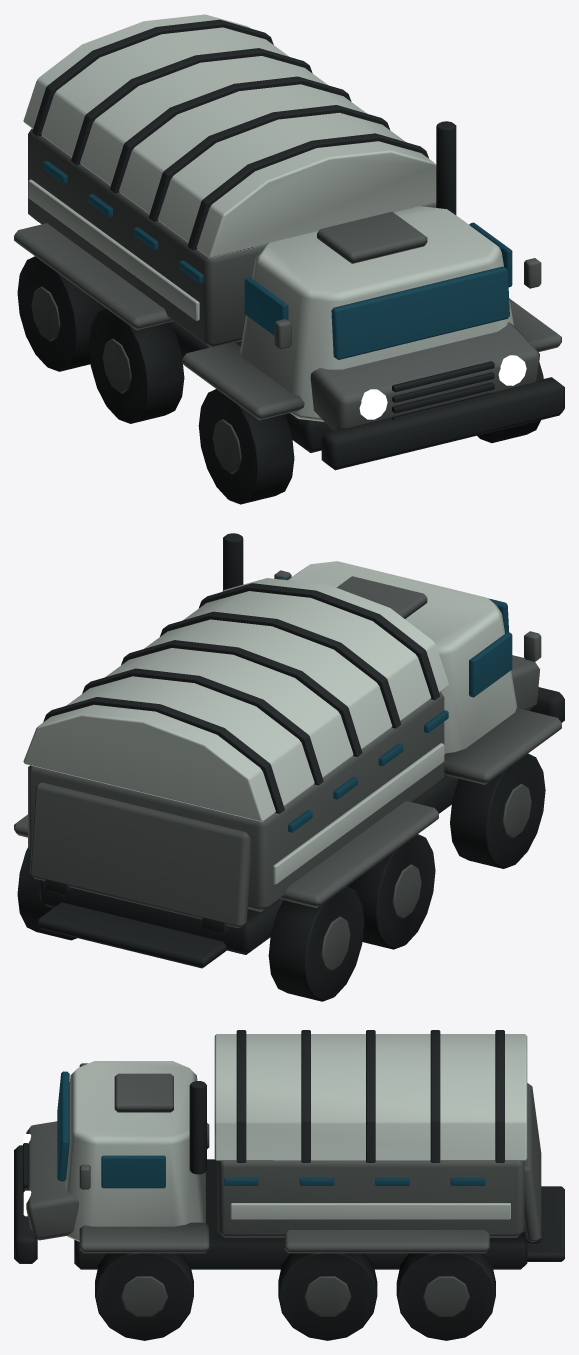
File: carrier.glb
3 renders of one model, top to bottom at view 1: azimuth 30°, elevation 25°; view 2: azimuth 150°, elevation 25°; view 3: azimuth 270°, elevation 25°, orthographic. The views are drawn at different scales.
Visible parts, largest first — view 1: Canvas_roof, Cab, Wheels, Cargo_walls, Cargo_ribs, Hood, Windshield, Bumper, Fenders, Rear_fenders, Rescue_stripe, Roof_hatch (+8 smaller); view 2: Canvas_roof, Rear_ramp, Wheels, Cargo_walls, Cargo_ribs, Cab, Rear_fenders, Rear_step, Chassis, Fenders, Rescue_stripe, Wheel_hubs (+8 smaller); view 3: Canvas_roof, Wheels, Cargo_walls, Cab, Cargo_ribs, Chassis, Rear_fenders, Rescue_stripe, Wheel_hubs, Hood, Fenders, Roof_hatch (+7 smaller).
Part boxes in pixels (x1=…): Canvas_roof: x1=23, y1=14, x2=436, y2=258; Cab: x1=240, y1=206, x2=513, y2=421; Wheels: x1=17, y1=256, x2=543, y2=504; Cargo_walls: x1=28, y1=128, x2=436, y2=347; Cargo_ribs: x1=32, y1=19, x2=428, y2=250; Hood: x1=310, y1=322, x2=539, y2=430; Windshield: x1=331, y1=266, x2=509, y2=359; Bumper: x1=321, y1=377, x2=564, y2=470; Fenders: x1=182, y1=298, x2=561, y2=420; Rear_fenders: x1=14, y1=223, x2=173, y2=330; Rescue_stripe: x1=28, y1=179, x2=199, y2=320; Roof_hatch: x1=317, y1=211, x2=427, y2=263; Canvas_roof: x1=23, y1=578, x2=448, y2=821; Rear_ramp: x1=30, y1=782, x2=250, y2=928; Wheels: x1=17, y1=753, x2=545, y2=1001; Cargo_walls: x1=28, y1=692, x2=444, y2=911; Cargo_ribs: x1=43, y1=583, x2=439, y2=813; Cab: x1=288, y1=561, x2=517, y2=754; Rear_fenders: x1=14, y1=801, x2=438, y2=907; Rear_step: x1=37, y1=902, x2=227, y2=968; Chassis: x1=39, y1=775, x2=458, y2=954; Fenders: x1=444, y1=708, x2=561, y2=784; Rescue_stripe: x1=273, y1=743, x2=444, y2=884; Wheel_hubs: x1=321, y1=783, x2=531, y2=971; Canvas_roof: x1=214, y1=1034, x2=527, y2=1160; Wheels: x1=95, y1=1253, x2=495, y2=1340; Cargo_walls: x1=217, y1=1161, x2=524, y2=1237; Cab: x1=65, y1=1061, x2=205, y2=1241; Cargo_ribs: x1=236, y1=1030, x2=504, y2=1162; Chassis: x1=74, y1=1159, x2=527, y2=1269; Rear_fenders: x1=284, y1=1230, x2=489, y2=1253; Rescue_stripe: x1=230, y1=1203, x2=510, y2=1219; Wheel_hubs: x1=120, y1=1276, x2=469, y2=1316; Hood: x1=26, y1=1121, x2=78, y2=1240; Fenders: x1=79, y1=1123, x2=209, y2=1253; Roof_hatch: x1=114, y1=1073, x2=173, y2=1112.
Bounding box in the file's own units: 2.74 × 2.48 × 5.11.
